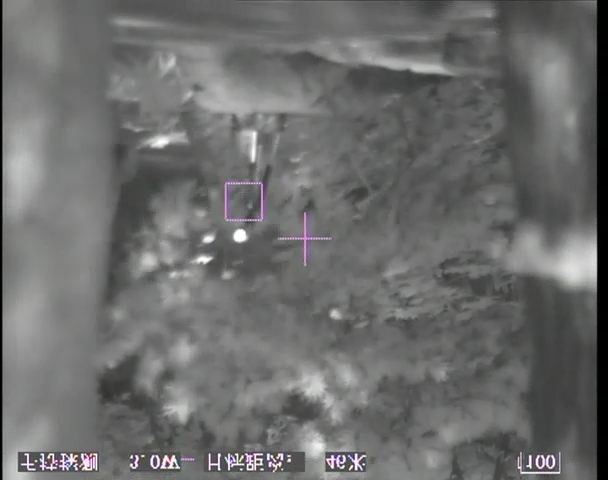my: (231, 228, 248, 244)
